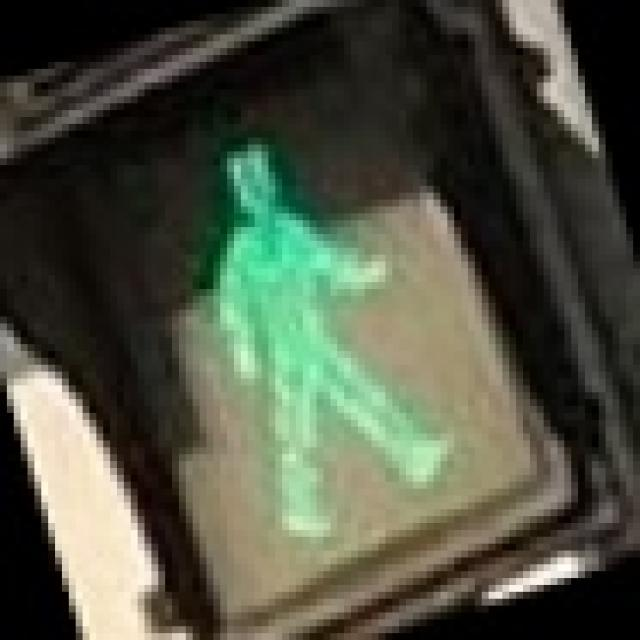green_light: (124, 69, 502, 558)
